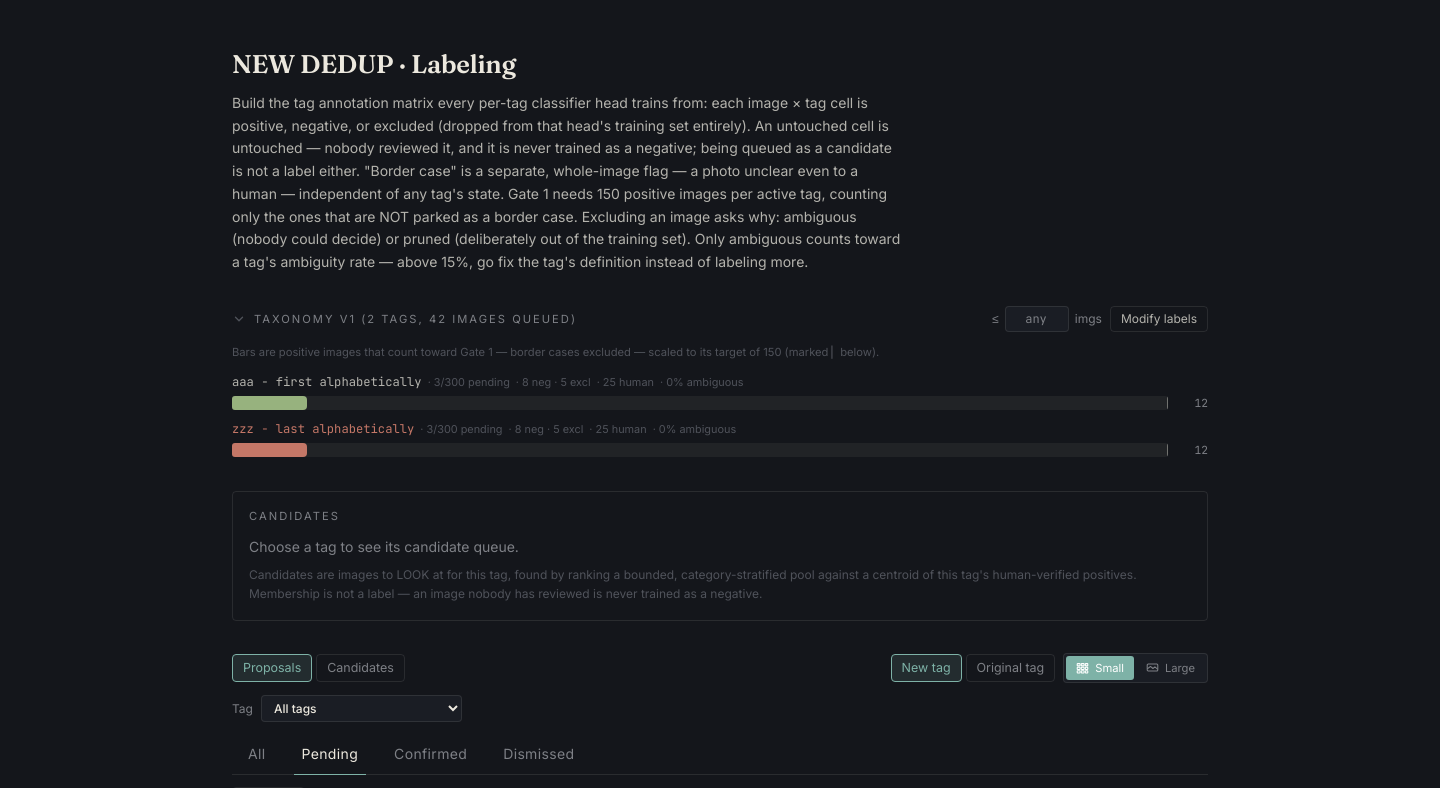
Test: <NewDedupLabeling> › pins a priority tag to the top of the manage modal, marked in red
This screenshot has width=1440, height=788.
Expected: the button "aaa - first alphabetically" is shown, [232,373,422,391]
Click the button "Modify labels" at (1159, 319), box [1110,306,1208,332]
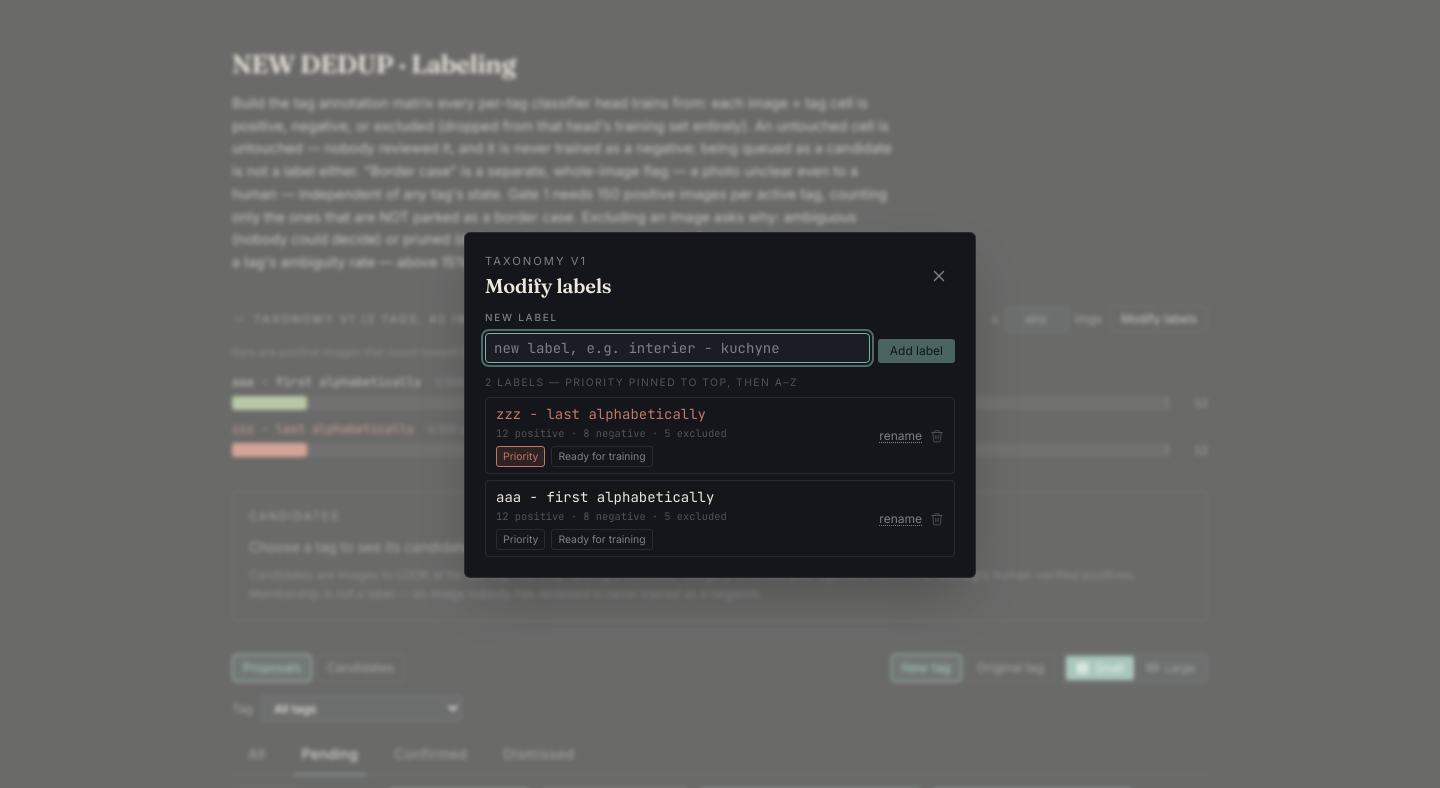
Result: the elements titled "alphabetically" read "zzz - last alphabetically", "aaa - first alphabetically", in this order at [496,405,706,423]; [496,488,714,506]
